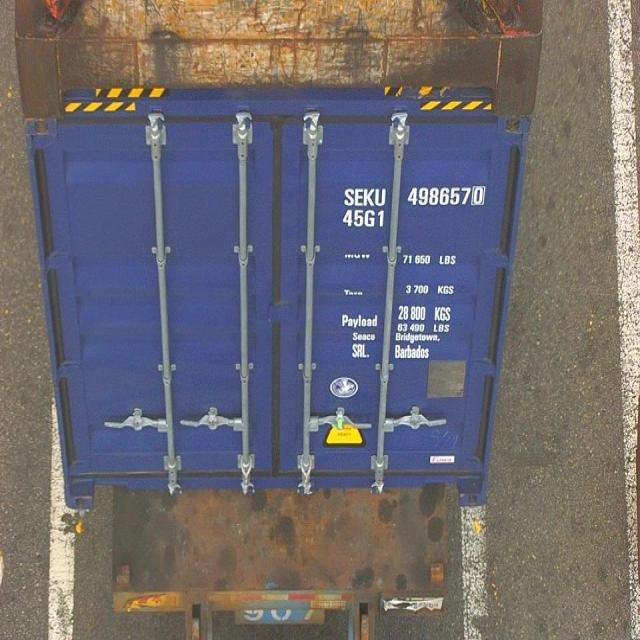ISO: (340, 208, 388, 230)
container_number: (351, 186, 487, 208)
